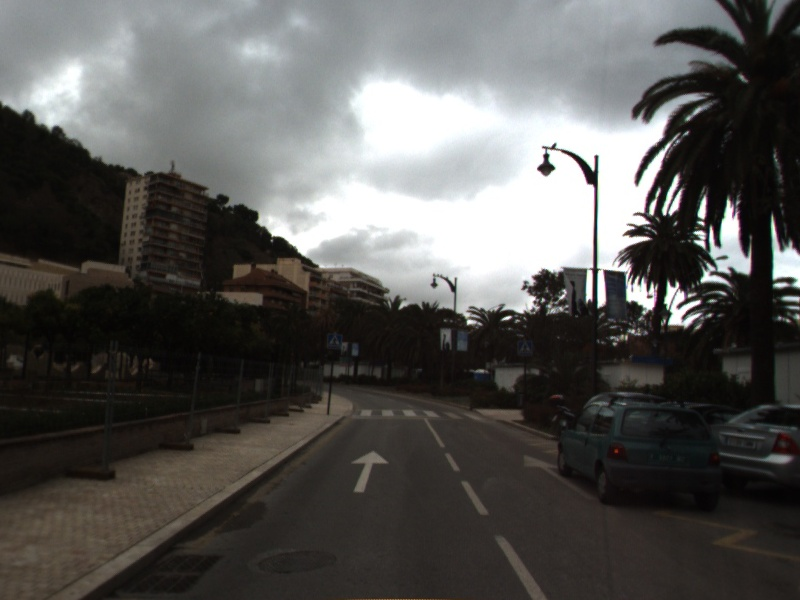STRAIGHT: (522, 452, 603, 502), (350, 449, 390, 494)
